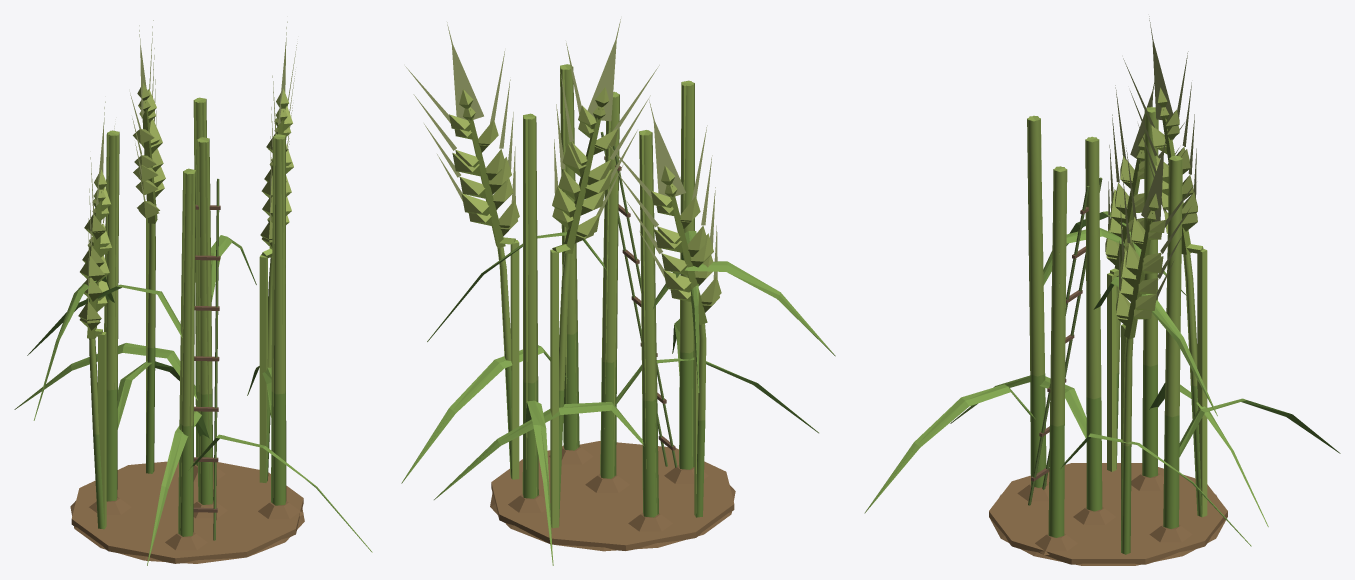
Rendered from wheat_forest_green.glb.
The picture shows the model from 3 angles, left to right: view 1: azimuth 30°, elevation 25°; view 2: azimuth 150°, elevation 25°; view 3: azimuth 270°, elevation 25°; orthographic projection. The views are drawn at different scales.
Parts seen in each view (by area): view 1: body, body__far, body_nl, body_nh; view 2: body__far, body, body_nl, body_nh; view 3: body, body__far, body_nl, body_nh.
Boxes of the visible parts, box(x1,y1,x2,y2) form: body: box(70, 97, 304, 563); body__far: box(71, 42, 303, 563); body_nl: box(14, 99, 372, 565); body_nh: box(87, 20, 297, 304); body__far: box(449, 37, 734, 550); body: box(490, 64, 735, 551); body_nl: box(401, 106, 835, 565); body_nh: box(405, 19, 717, 279); body: box(989, 107, 1227, 565); body__far: box(989, 37, 1227, 564); body_nl: box(864, 107, 1340, 554); body_nh: box(1108, 16, 1196, 300).
Bounding box in the file's own units: 5.67 × 7.76 × 6.85.
